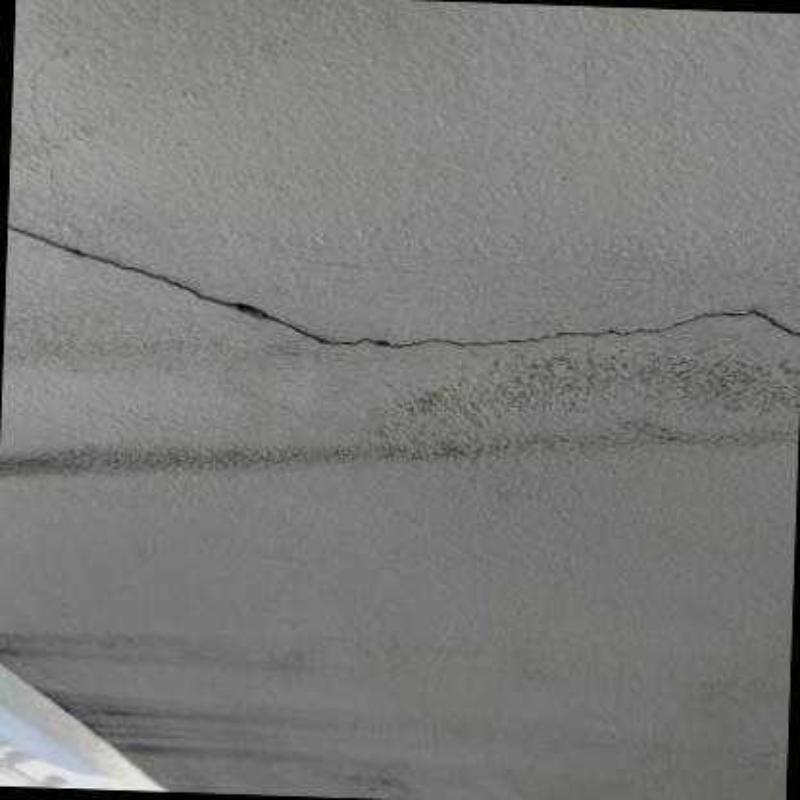pothole: (6, 225, 798, 347)
